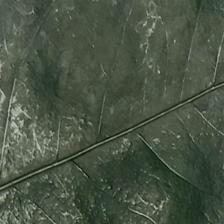healthy: (1, 0, 224, 149)
